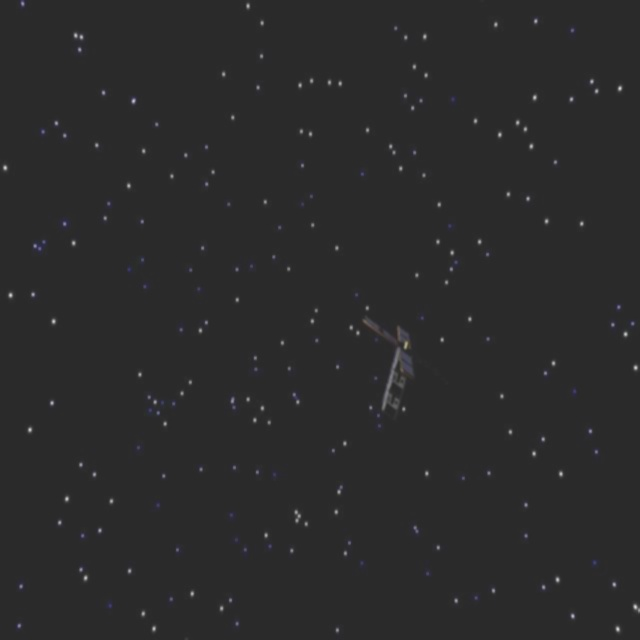medium_debris: (355, 310, 425, 423)
